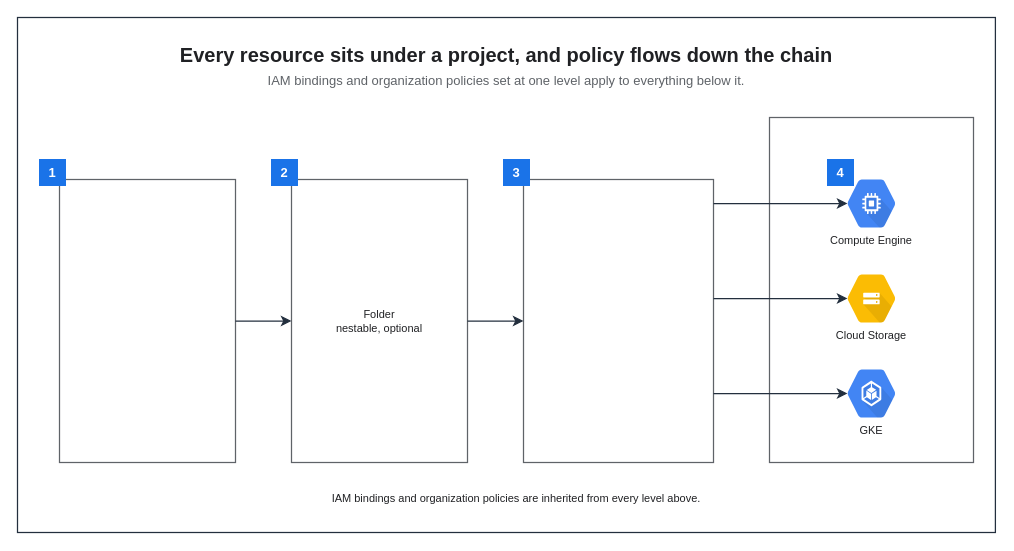
Some shapes in this 1014 by 551 pixel diagram are drawn without their labels. The shapes that lost their labels are listed below. From the top down, each one's box as (x1, y1, x2, y2) in pixels, then its label:
(768, 116, 974, 463): Resources
(58, 178, 236, 463): Organization the root node
(522, 178, 714, 463): Project billing and quota boundary
